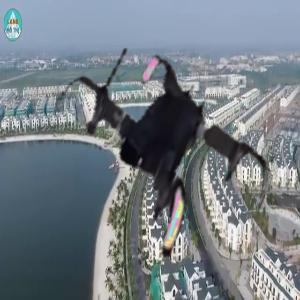drone: (31, 39, 277, 285)
